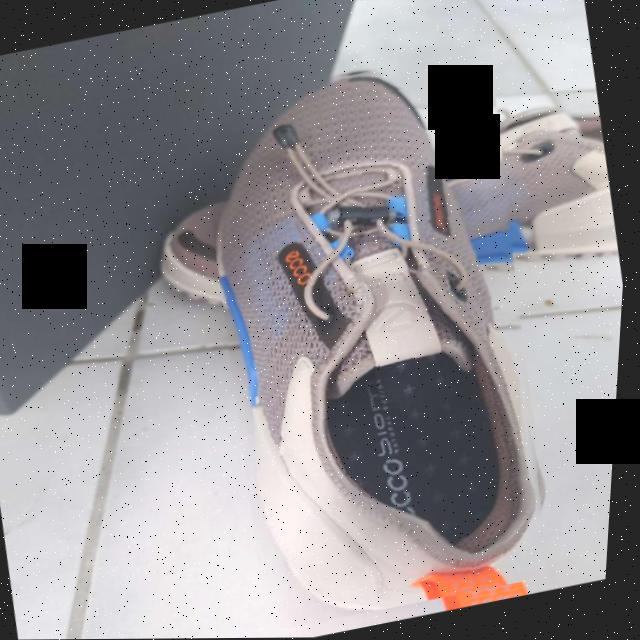shoe: (172, 43, 594, 634)
